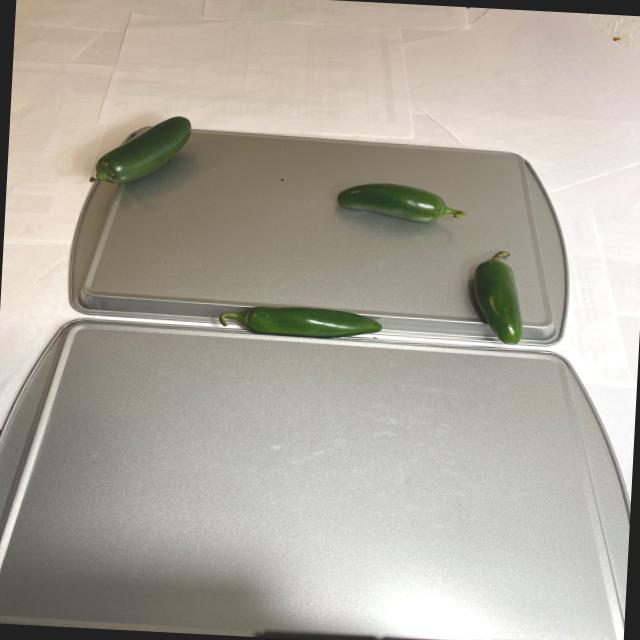chilli: (202, 175, 534, 362), (83, 110, 197, 201)
